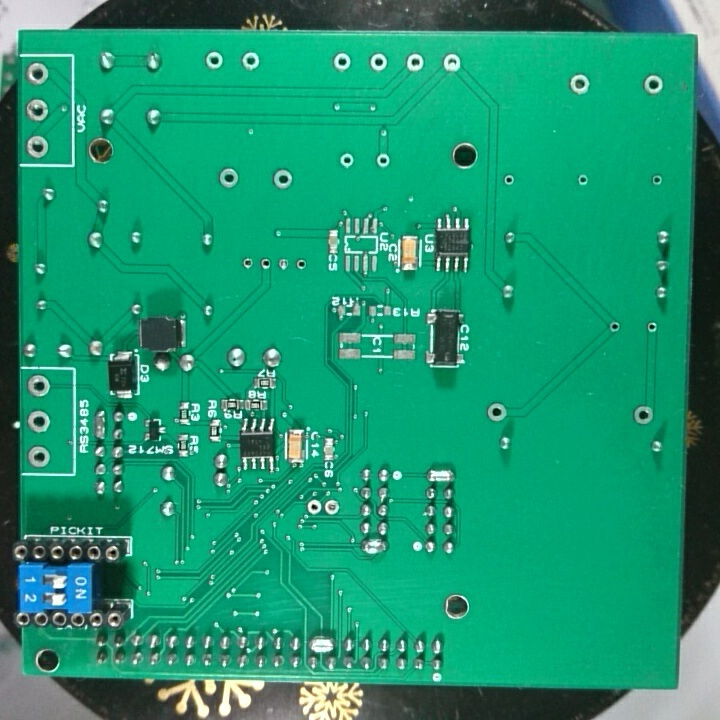F: (22, 96, 51, 123), (23, 60, 51, 87), (24, 132, 51, 160), (640, 70, 666, 98), (214, 163, 242, 189), (25, 372, 52, 398), (567, 71, 593, 98), (25, 443, 53, 468), (25, 409, 51, 434), (440, 49, 465, 75), (631, 403, 655, 427), (271, 166, 295, 190), (484, 400, 509, 423), (404, 50, 427, 74), (331, 50, 353, 75), (202, 49, 225, 72), (239, 50, 262, 72), (368, 50, 388, 74), (336, 149, 356, 171), (574, 170, 593, 191), (374, 150, 392, 171), (238, 254, 256, 275), (322, 497, 341, 516), (274, 254, 291, 275), (291, 255, 309, 274), (305, 497, 322, 517), (257, 254, 273, 275), (643, 318, 660, 336), (607, 317, 623, 335), (649, 171, 665, 188), (500, 172, 518, 187)
P: (307, 632, 336, 655), (425, 466, 458, 485), (91, 408, 108, 441), (361, 538, 388, 557)
